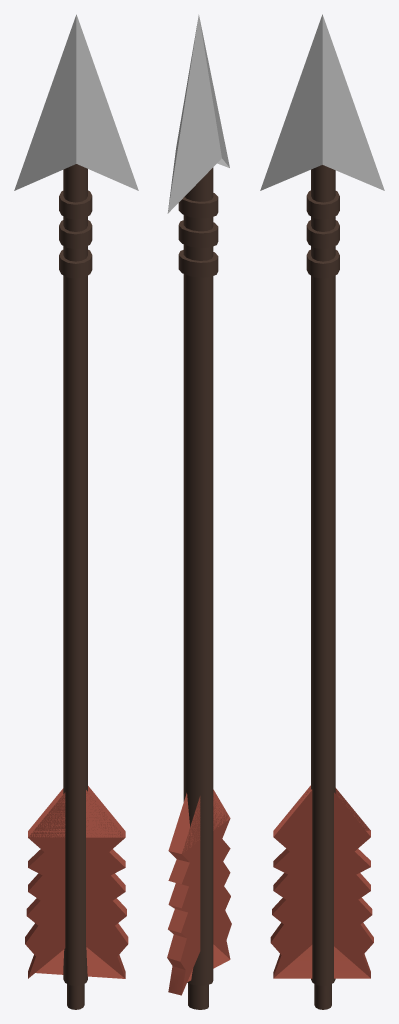
The model's file is flecha.fbx.
The picture shows the model from 3 angles, left to right: view 1: azimuth 90°, elevation 25°; view 2: azimuth 150°, elevation 25°; view 3: azimuth 270°, elevation 25°; orthographic projection.
Parts seen in each view (by area): view 1: Cubo; view 2: Cubo; view 3: Cubo.
Part boxes in pixels (x1,y1,x2,y2): Cubo: (14, 14, 138, 1009); Cubo: (167, 14, 231, 1009); Cubo: (260, 14, 384, 1009).
Size of the model in its own units: 2.9 by 59.84 by 6.83.
